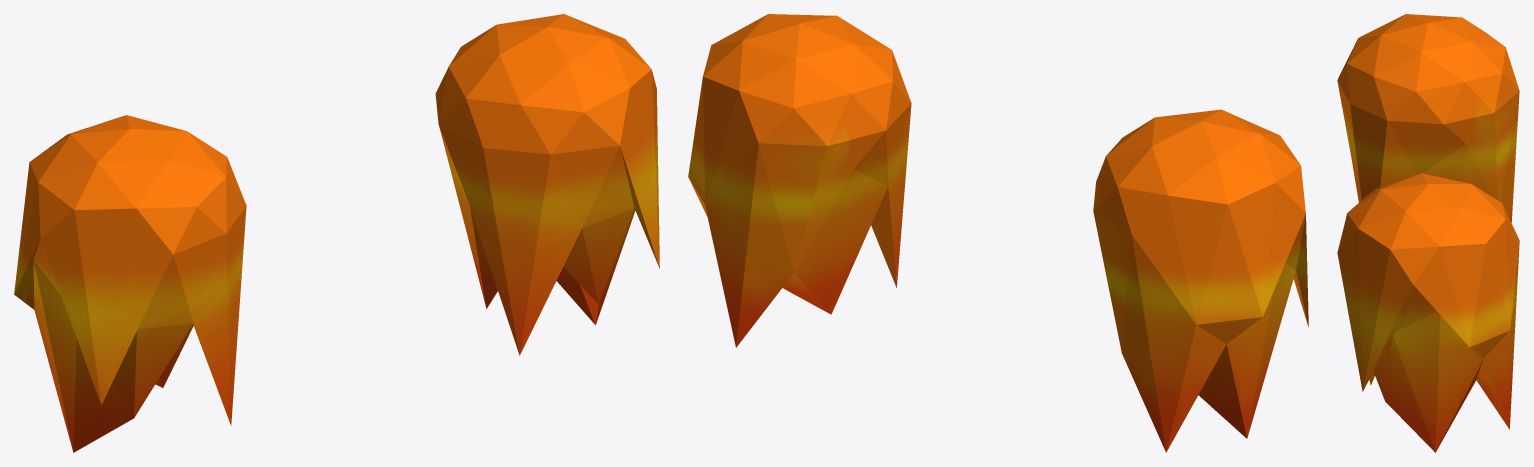
File: small_flame.obj
3 views of the same model, side by side, from view 1: azimuth 30°, elevation 25°; view 2: azimuth 150°, elevation 25°; view 3: azimuth 270°, elevation 25° (orthographic). The views are drawn at different scales.
Visible parts, largest first — view 1: Icosphere; view 2: Icosphere; view 3: Icosphere.
Part boxes in pixels (box(x1,y1,x2,y2)): Icosphere: box(14, 14, 659, 452); Icosphere: box(688, 14, 1308, 452); Icosphere: box(1337, 14, 1519, 452).
Size of the model in its own units: 0.3513 by 0.1713 by 0.1138.
Materials: 1 (1 with a texture image).
